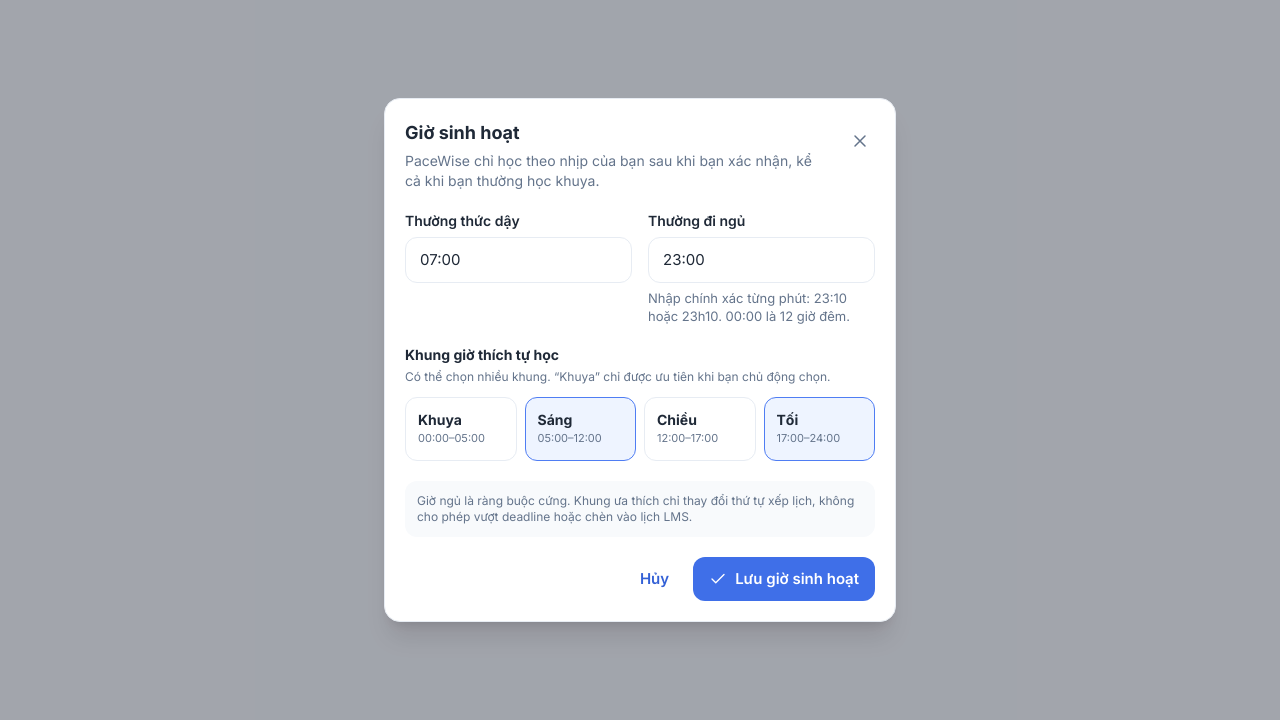
personal calendar dialogs › rejects an invalid typed clock instead of guessing
Replace the text in the field labelled "Thường đi ngủ" with "25:70": (762, 260) top-left (648, 237), bottom-right (875, 283)
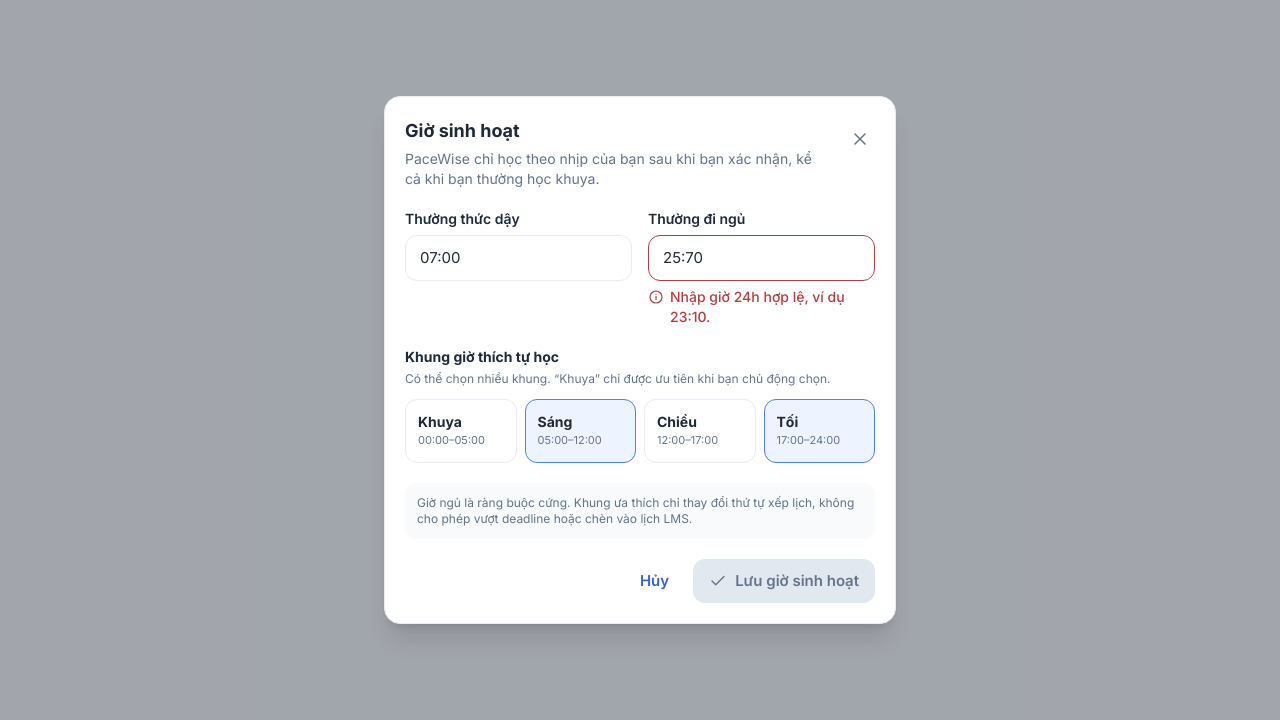
expect the text "Nhập giờ 24h hợp lệ, ví dụ 23:10." is shown: met, box top-left (648, 287), bottom-right (875, 327)
expect the button "Lưu giờ sinh hoạt" is disabled: met, box top-left (693, 559), bottom-right (875, 603)
